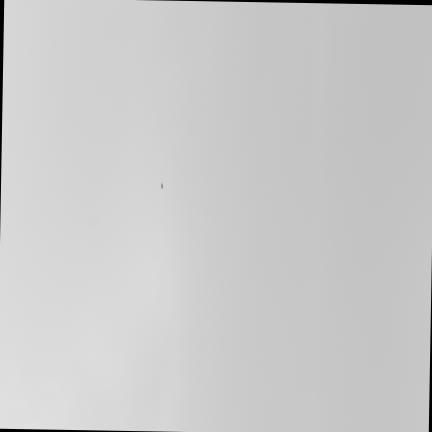Shahed: (160, 181, 163, 188)
